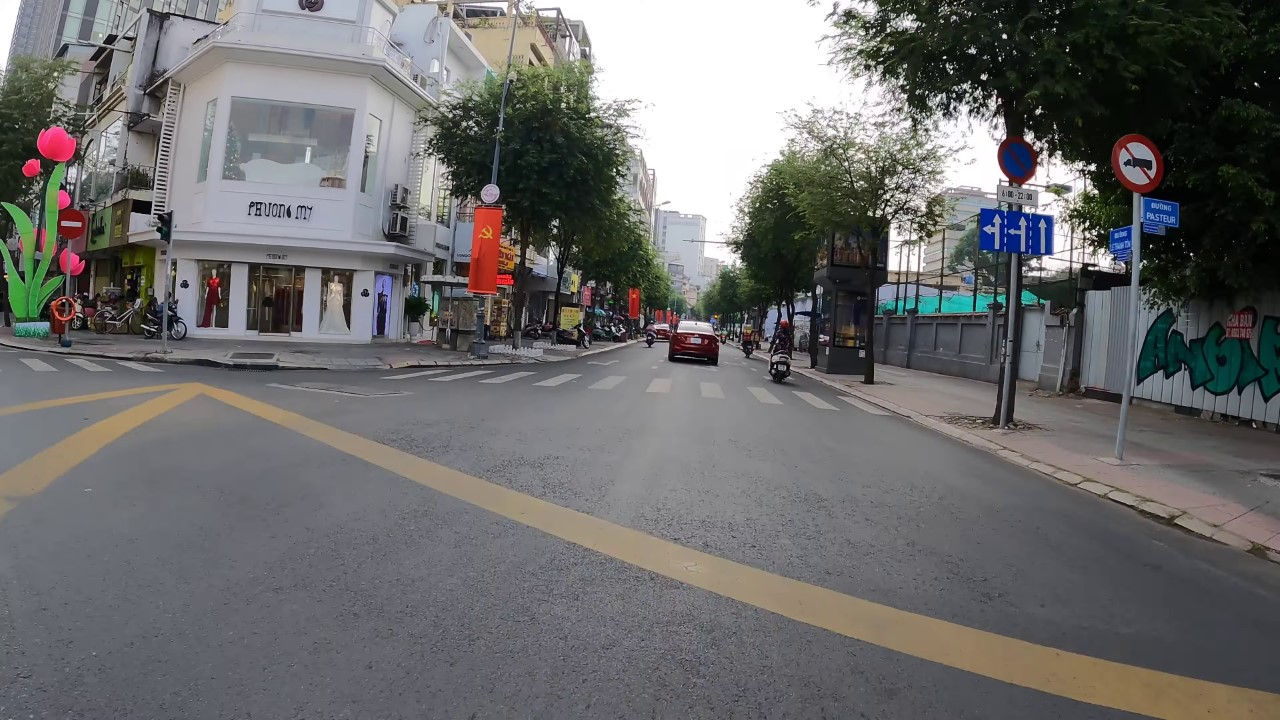cam_do_xe: (994, 130, 1039, 187)
cam_nguoc_chieu: (55, 204, 88, 242)
